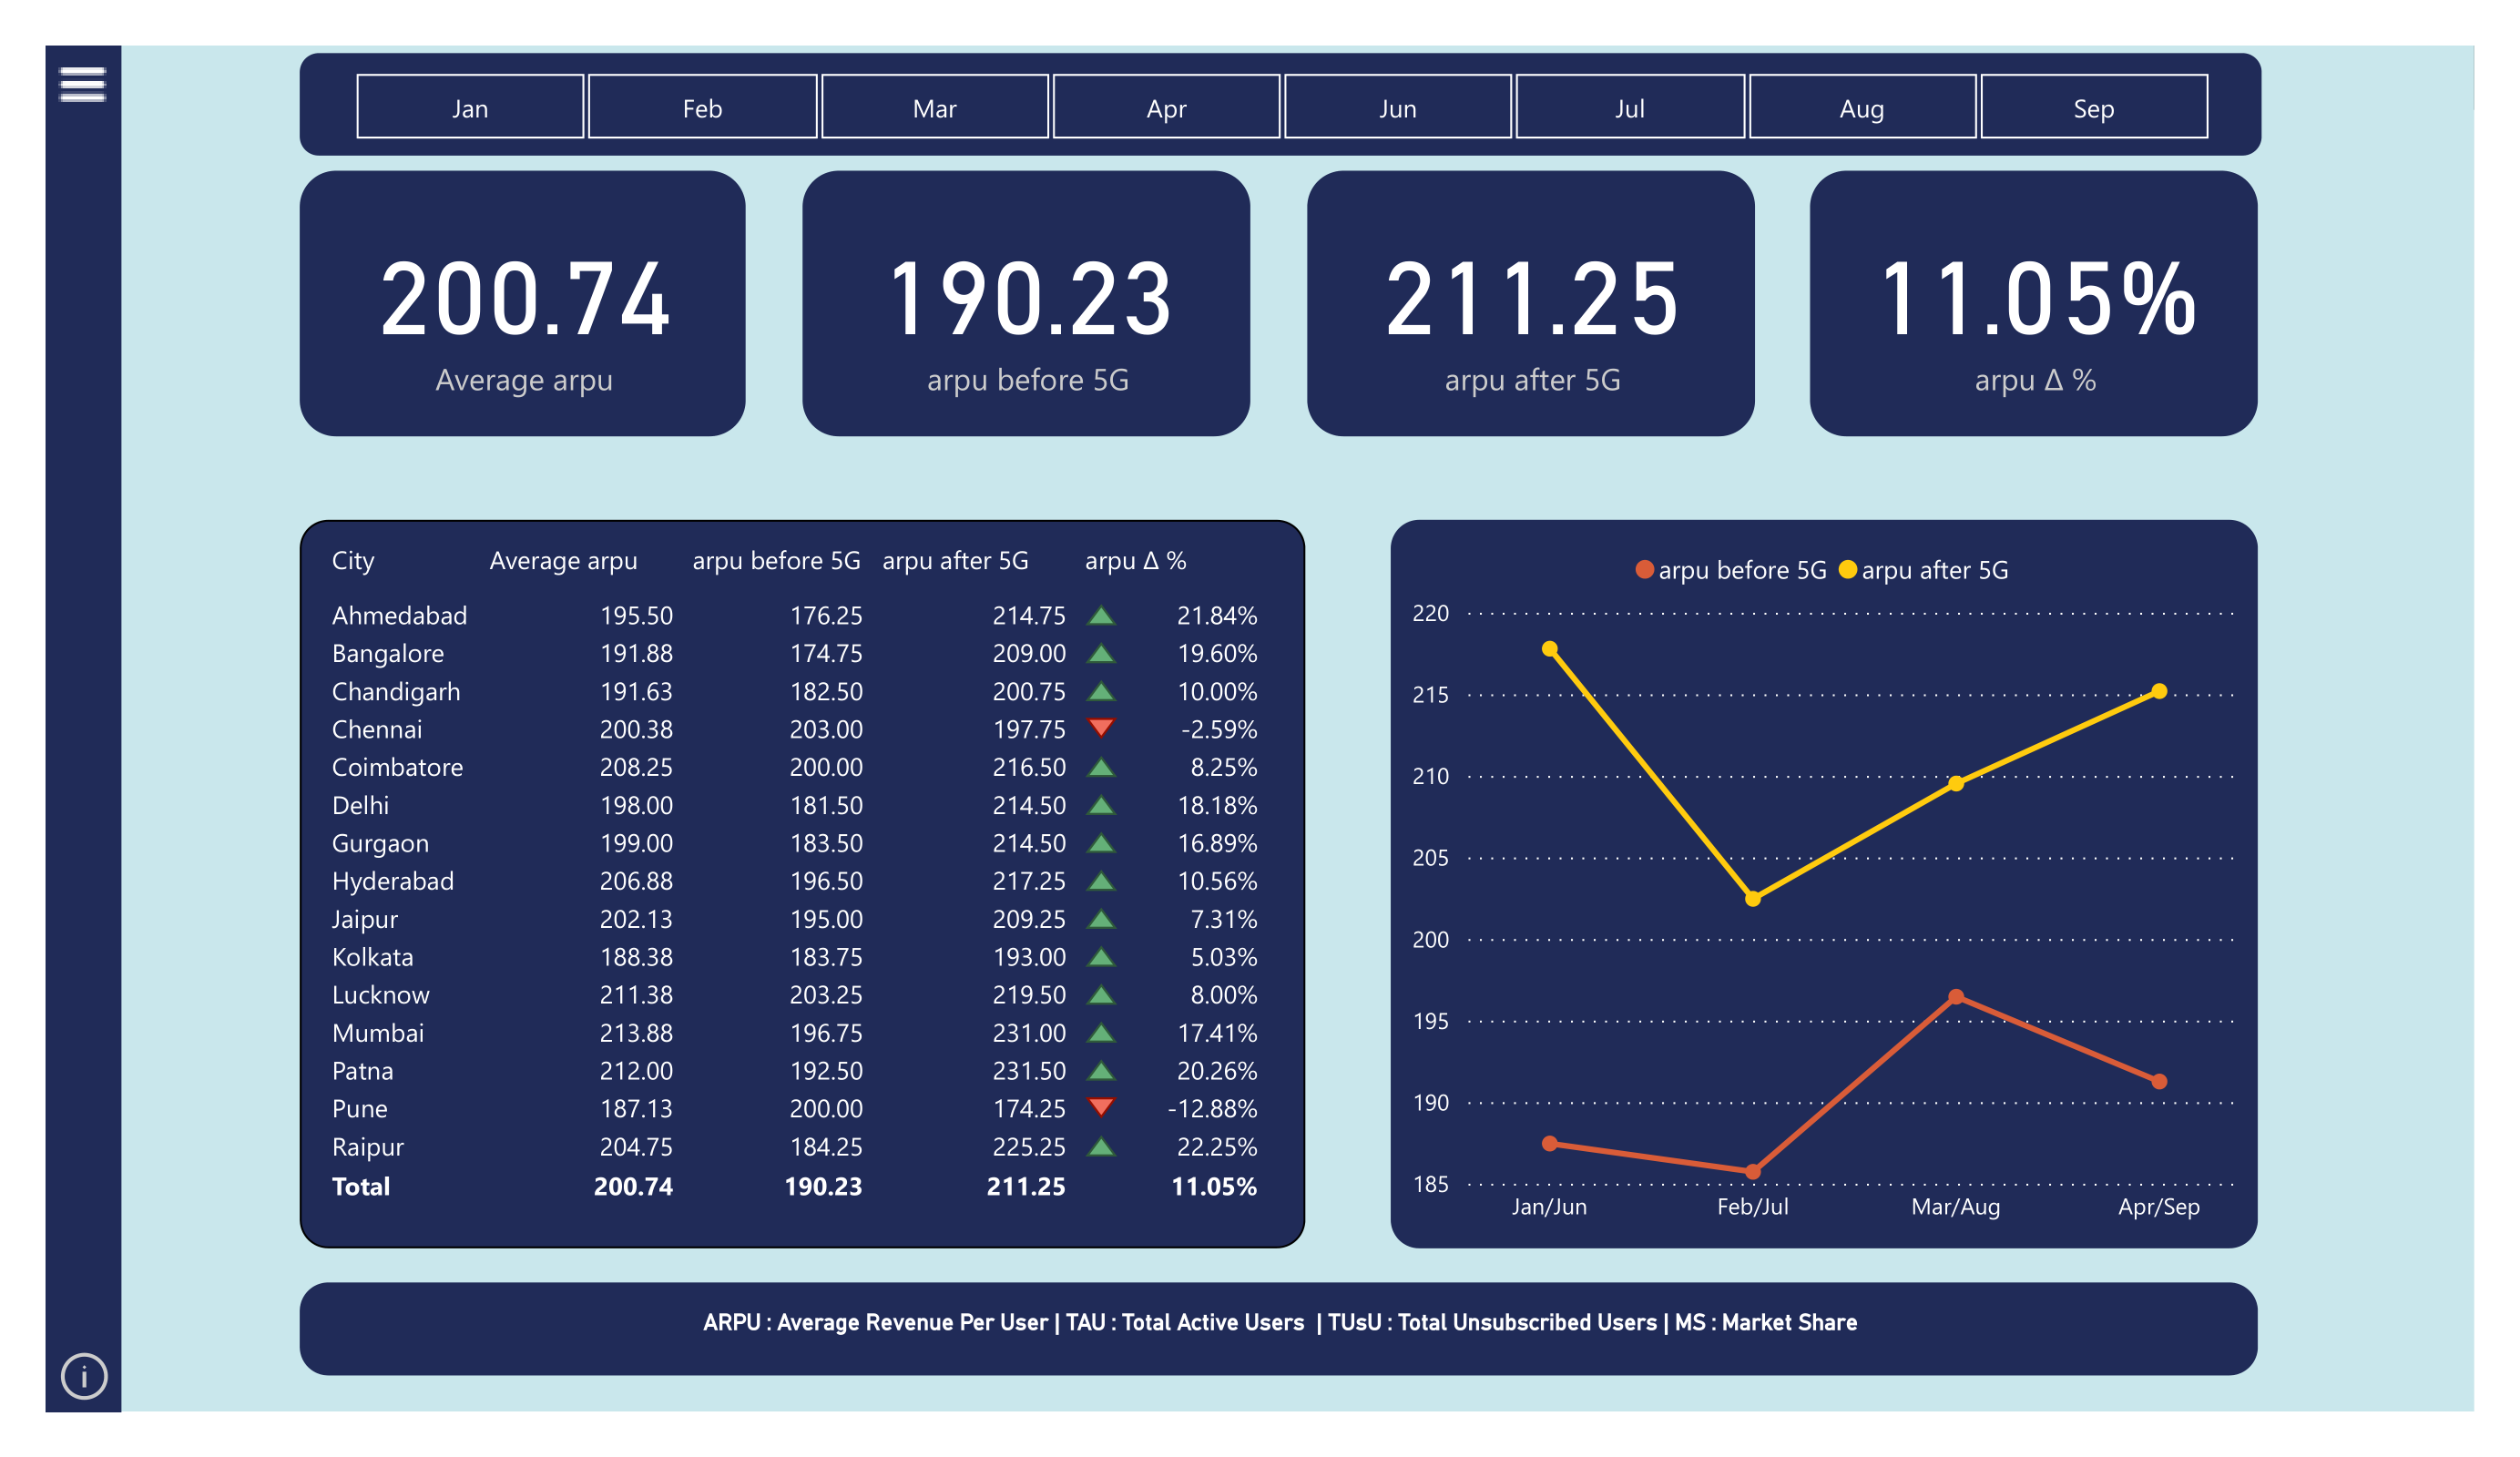

Layout of this report page (visuals, bound fields, positions):
{"tool":"powerbi","page":{"name":"ARPU","canvas":[1280,720],"ordinal":2},"visuals":[{"type":"shape","title":"blue left border","box":[0,0,40,935],"z":0,"group":"g1"},{"type":"card","fields":{"Values":["Key Measures.Average arpu"]},"box":[133.6,66,235.9,140.2],"z":0},{"type":"actionButton","title":"hamburger","box":[2,3,35,35],"z":1000,"group":"g1"},{"type":"slicer","fields":{"Values":["dim_date.month_name"]},"box":[134,4,1034,54],"z":1000},{"type":"card","fields":{"Values":["Key Measures.arpu before 5G"]},"box":[399.2,66,235.9,140.2],"z":2000},{"type":"actionButton","title":"info","box":[3,684.4,34.8,34.8],"z":2000,"group":"g1"},{"type":"card","fields":{"Values":["Key Measures.arpu after 5G"]},"box":[664.7,66,235.9,140.2],"z":4000},{"type":"card","fields":{"Values":["Key Measures.arpu Δ %"]},"box":[930.3,66,235.9,140.2],"z":6000},{"type":"lineChart","fields":{"Y":["Key Measures.arpu before 5G","Key Measures.arpu after 5G"],"Category":["dim_date.Month compare"]},"box":[709.1,249.9,457.1,384],"z":7000},{"type":"textbox","box":[134.1,652.2,1032.1,48.8],"z":8000},{"type":"tableEx","fields":{"Values":["dim_cities.city_name","Key Measures.Average arpu","Key Measures.arpu before 5G","Key Measures.arpu after 5G","Key Measures.arpu Δ %"]},"box":[134,250,530,384],"z":9000},{"type":"group","id":"g1","title":"Menu Bar","box":[0,0,40,935],"z":9500}]}

Visuals, with their boxes on the page's 1280x720 design canvas (x1, y1, x2, y2). These are canvas units, not pixel positions in the 2520x1457 screenshot, which may show the page scaled, cropped or inside an application window:
"blue left border" shape: x1=0, y1=0, x2=40, y2=935
card - Key Measures.Average arpu: x1=134, y1=66, x2=370, y2=206
"hamburger" actionButton: x1=2, y1=3, x2=37, y2=38
slicer - dim_date.month_name: x1=134, y1=4, x2=1168, y2=58
card - Key Measures.arpu before 5G: x1=399, y1=66, x2=635, y2=206
"info" actionButton: x1=3, y1=684, x2=38, y2=719
card - Key Measures.arpu after 5G: x1=665, y1=66, x2=901, y2=206
card - Key Measures.arpu Δ %: x1=930, y1=66, x2=1166, y2=206
lineChart - Key Measures.arpu before 5G x Key Measures.arpu after 5G: x1=709, y1=250, x2=1166, y2=634
textbox: x1=134, y1=652, x2=1166, y2=701
tableEx - dim_cities.city_name x Key Measures.Average arpu: x1=134, y1=250, x2=664, y2=634
"Menu Bar" group: x1=0, y1=0, x2=40, y2=935
